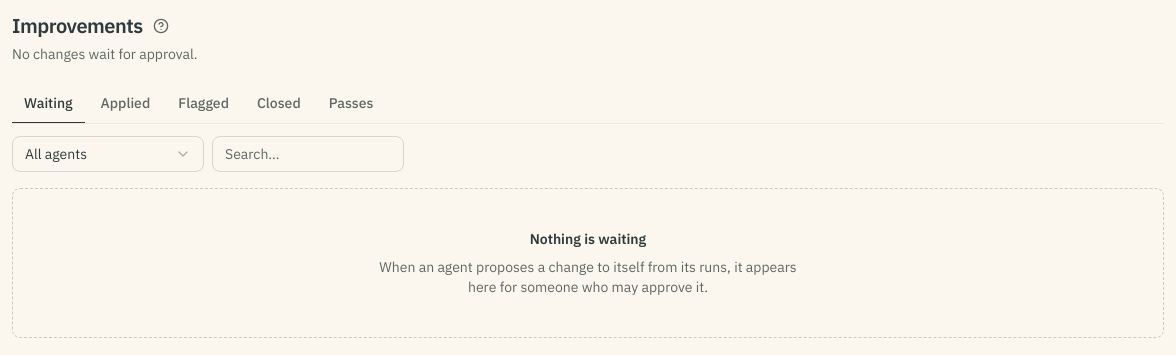
Scenario: the Passes tab › is offered to an approver after the others, and opened by the address
Click the tab "Passes".
click(351, 104)  # box [317,84,386,124]
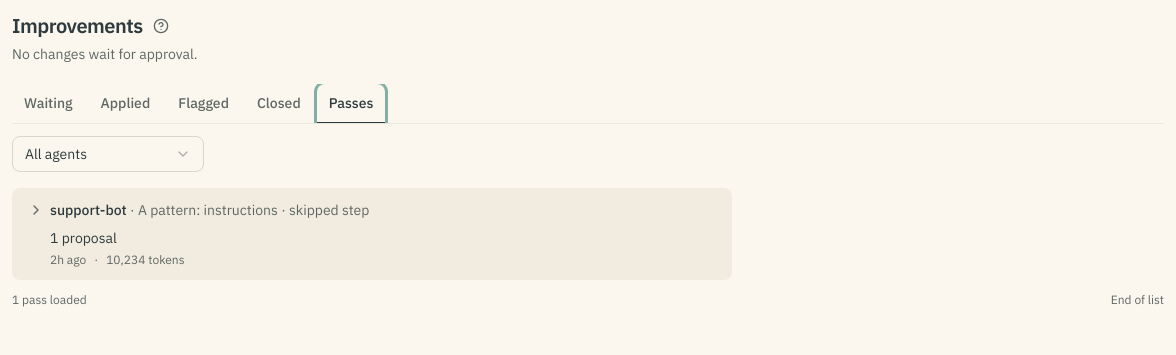
Now the list named "Improver passes" is shown, box [12,188,732,280]
